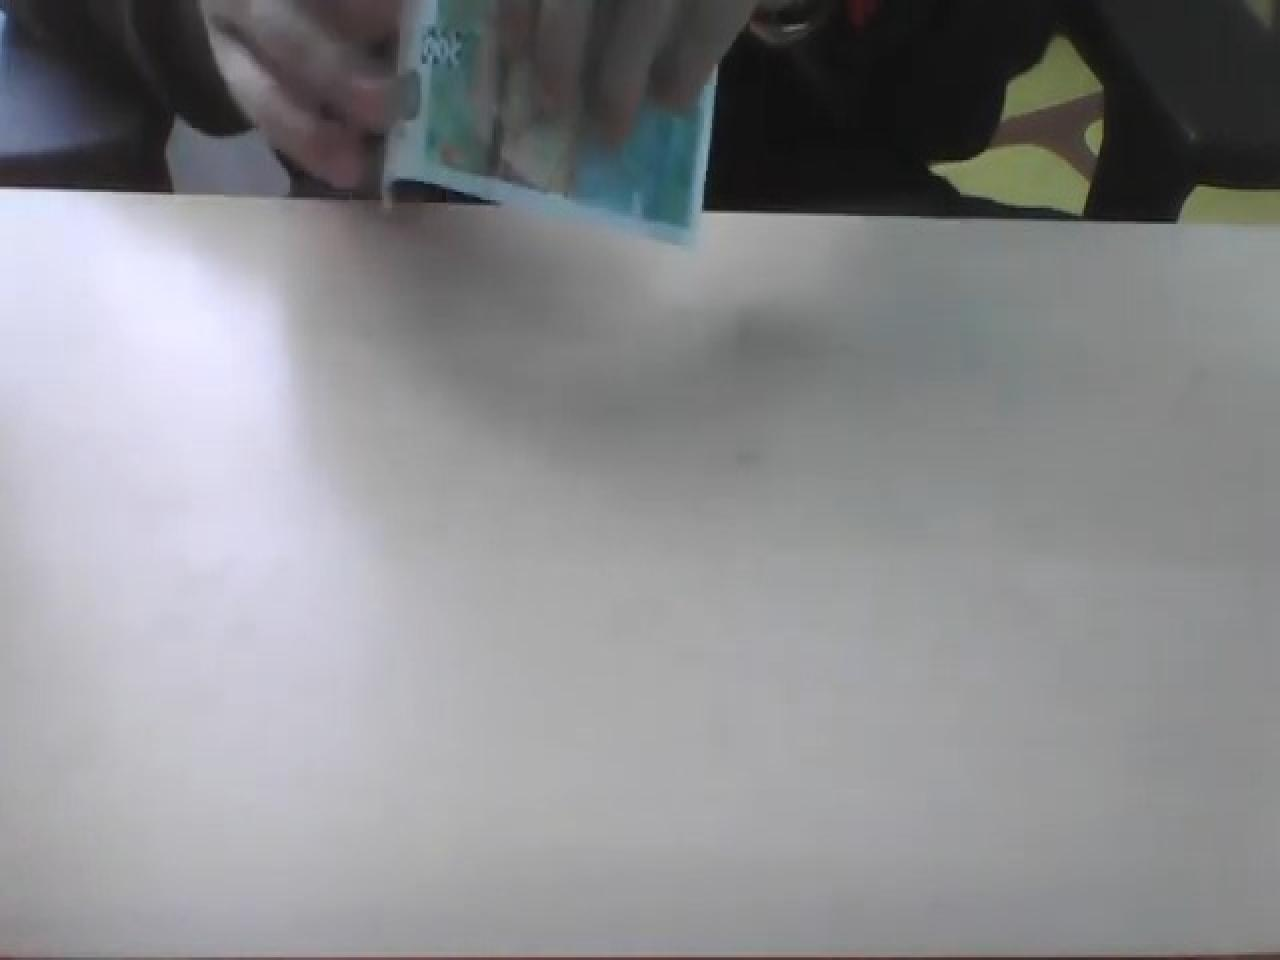100leva: (380, 0, 722, 245)
